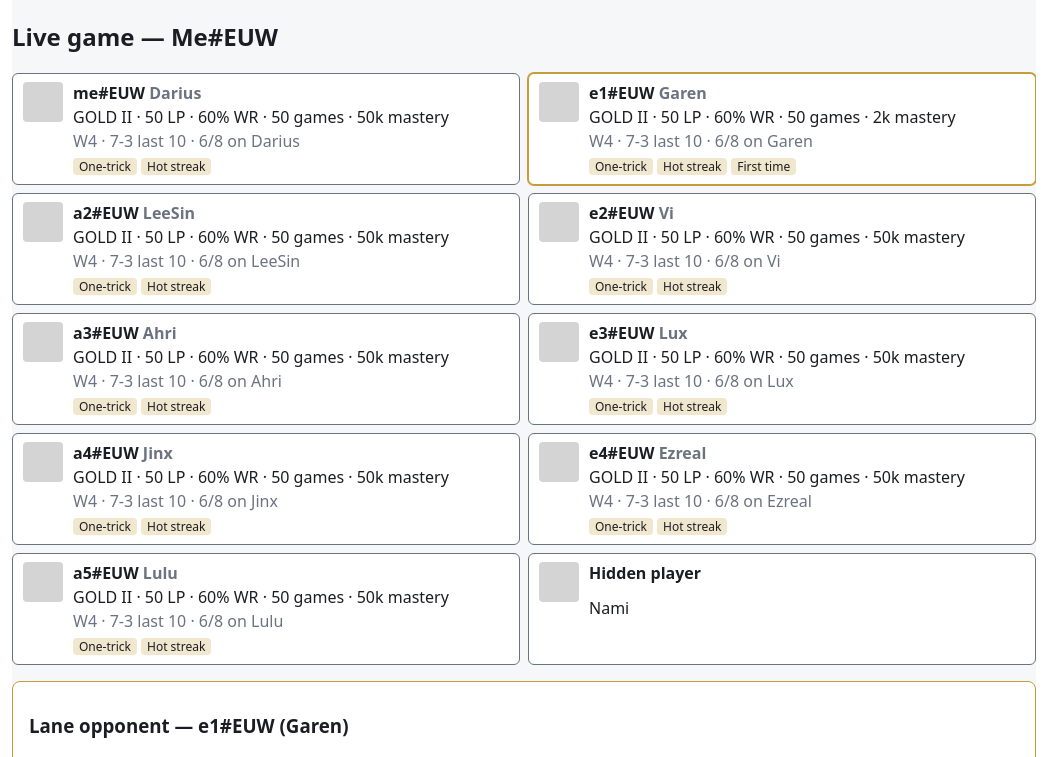
Test case: LivePage › switches the lane opponent on click
This screenshot has width=1048, height=757.
Click the button "e3#EUW": x=782, y=369 [528,313,1036,425]
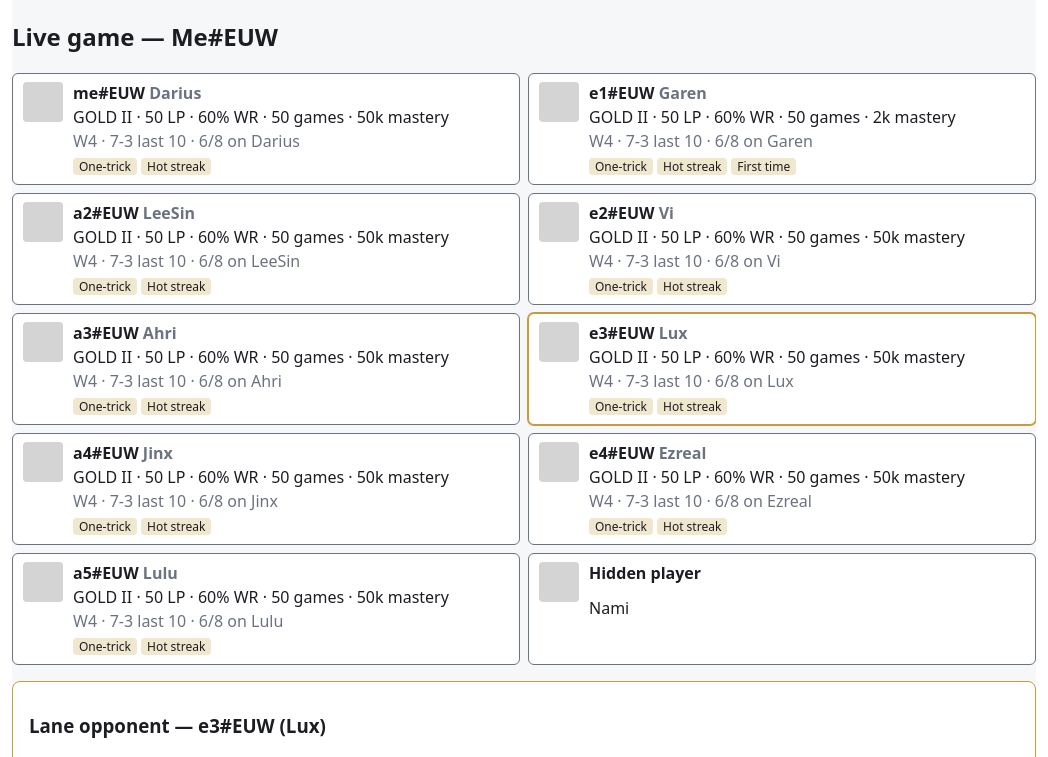
Check: the heading "Lane opponent — e3#EUW (Lux)" is shown, box [29,712,326,738]
